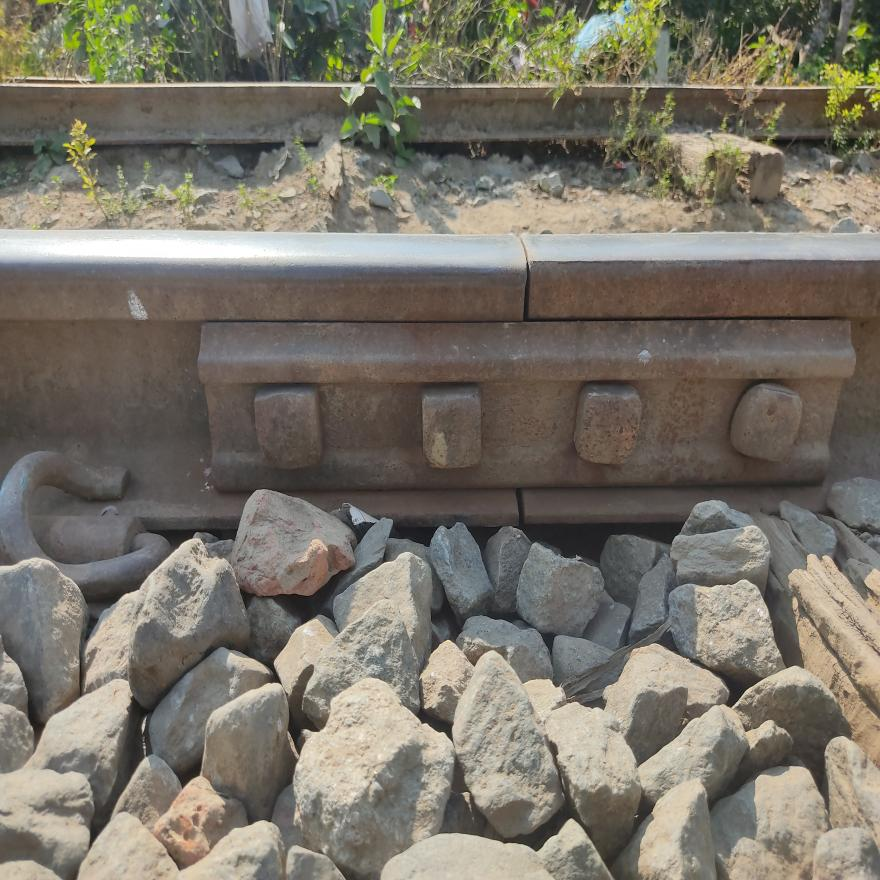railway-gap: (472, 207, 580, 338), (496, 476, 553, 548)
